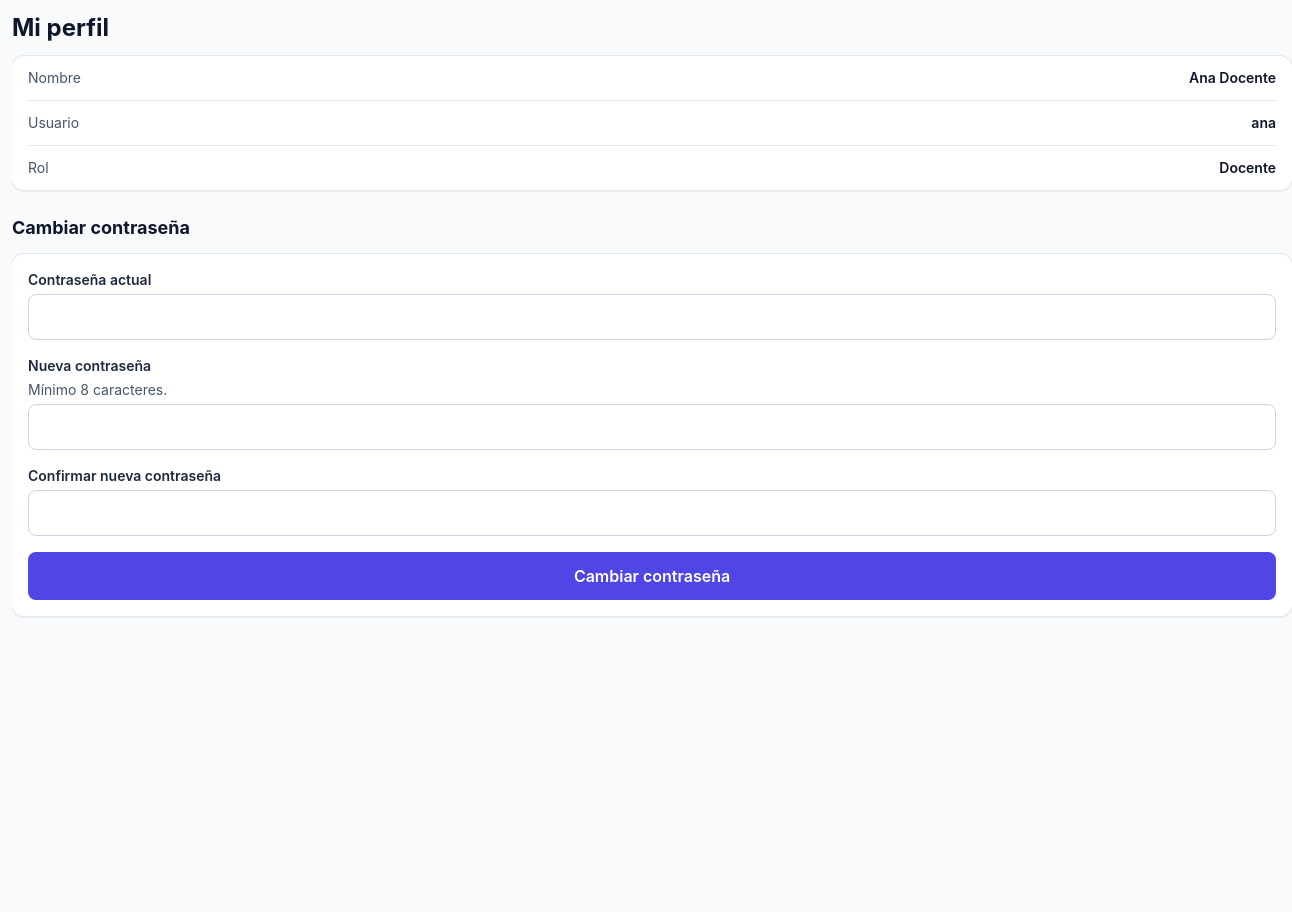
ProfilePage › shows a Spanish message when the current password is wrong
Type "equivocada" into the password field labelled "Contraseña actual" at coordinates (652, 317), box left=28, top=294, right=1276, bottom=340
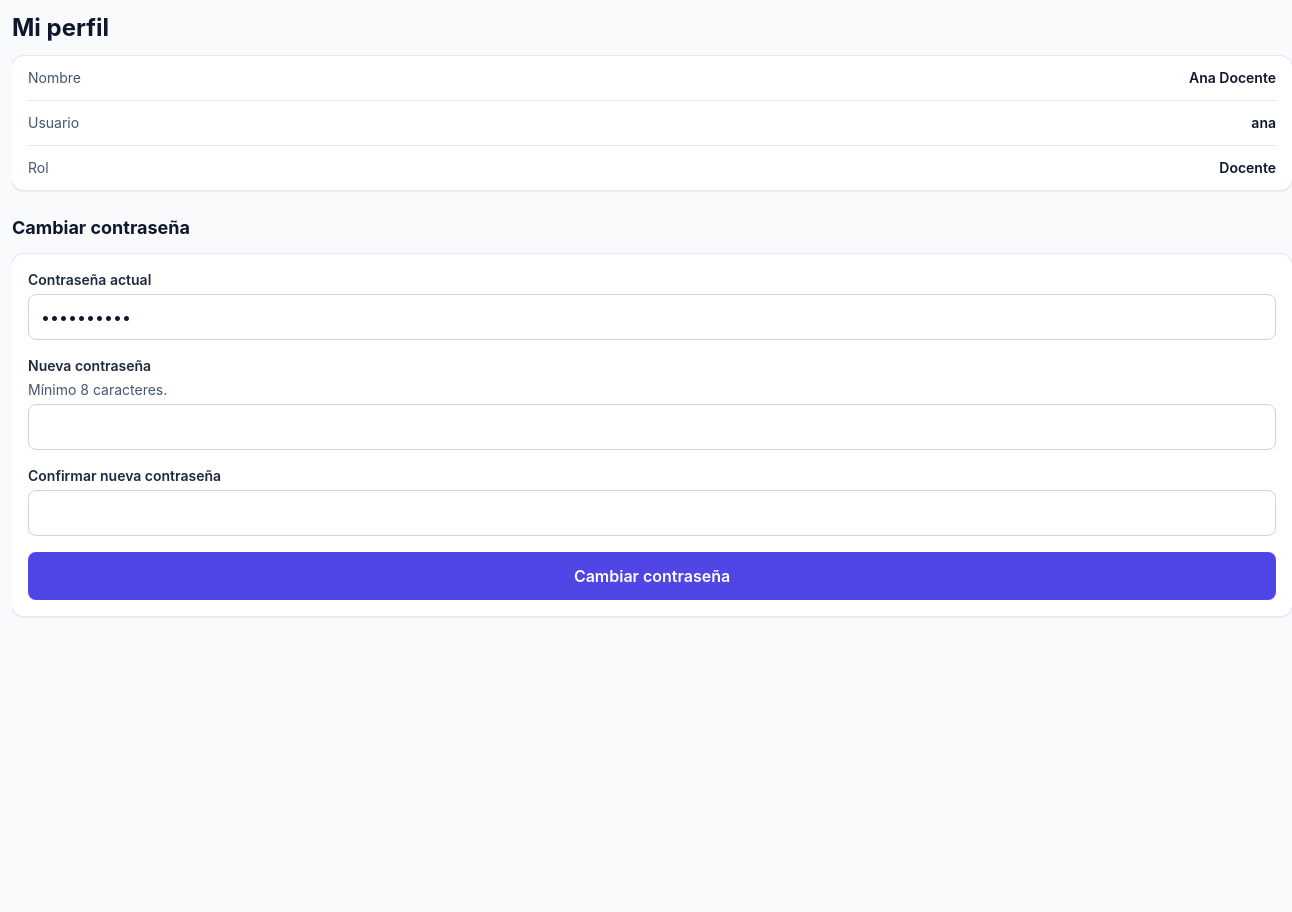
Type "nuevo-secreto" into the password field labelled "Nueva contraseña" at coordinates (652, 427), box left=28, top=404, right=1276, bottom=450
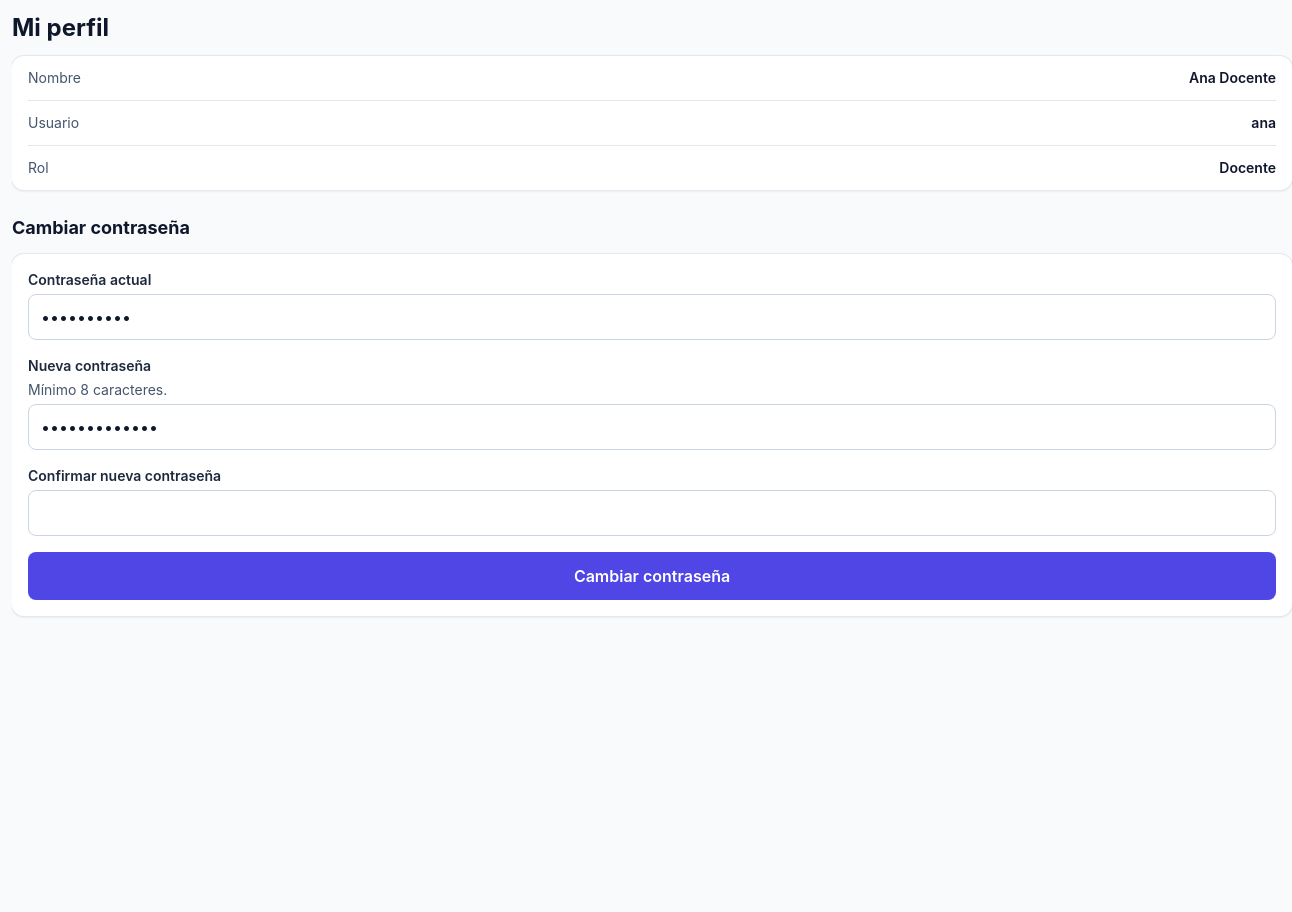
Type "nuevo-secreto" into the password field labelled "Confirmar nueva contraseña" at coordinates (652, 513), box left=28, top=490, right=1276, bottom=536
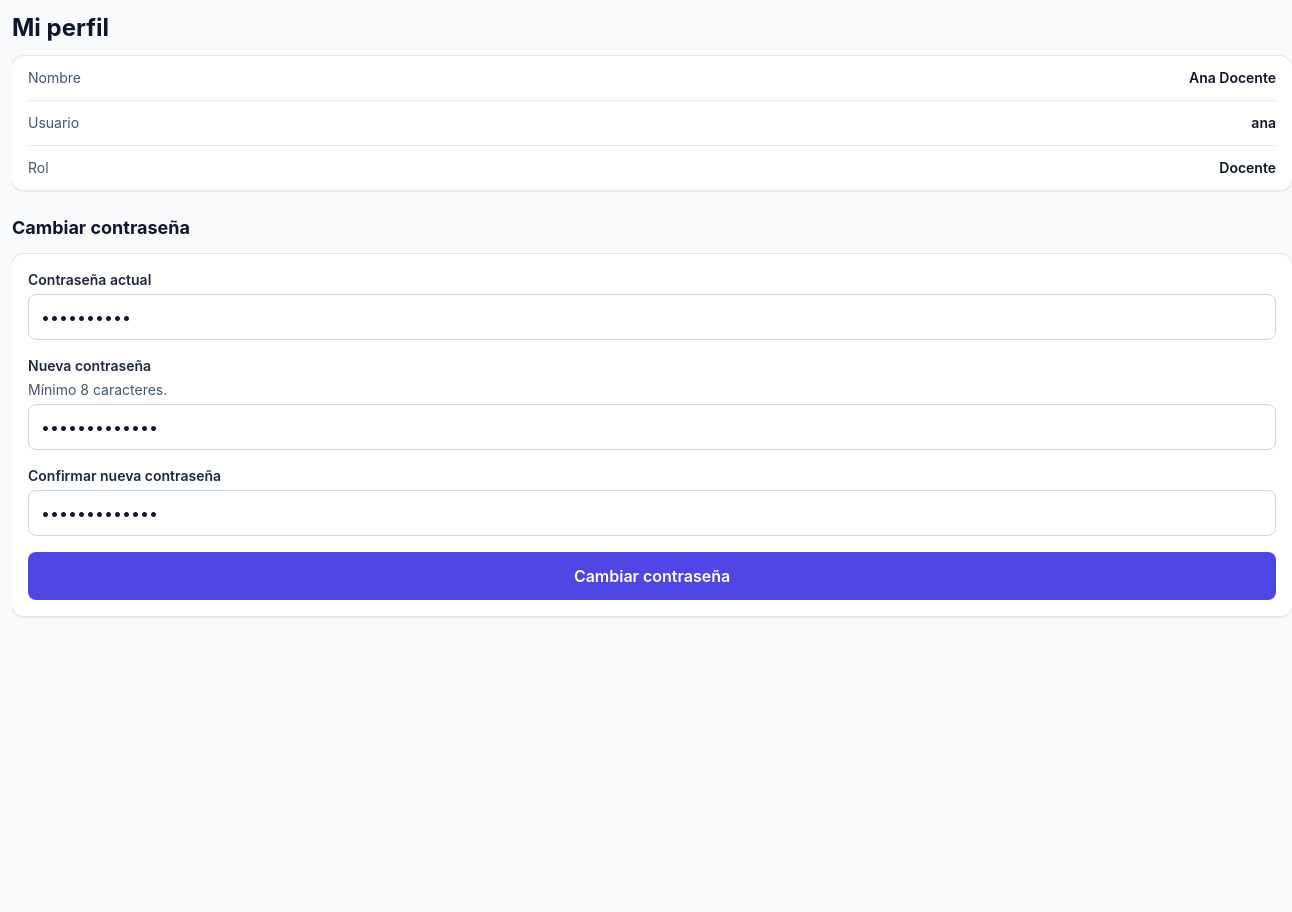
Click the button "Cambiar contraseña" at coordinates (652, 576), box left=28, top=552, right=1276, bottom=600
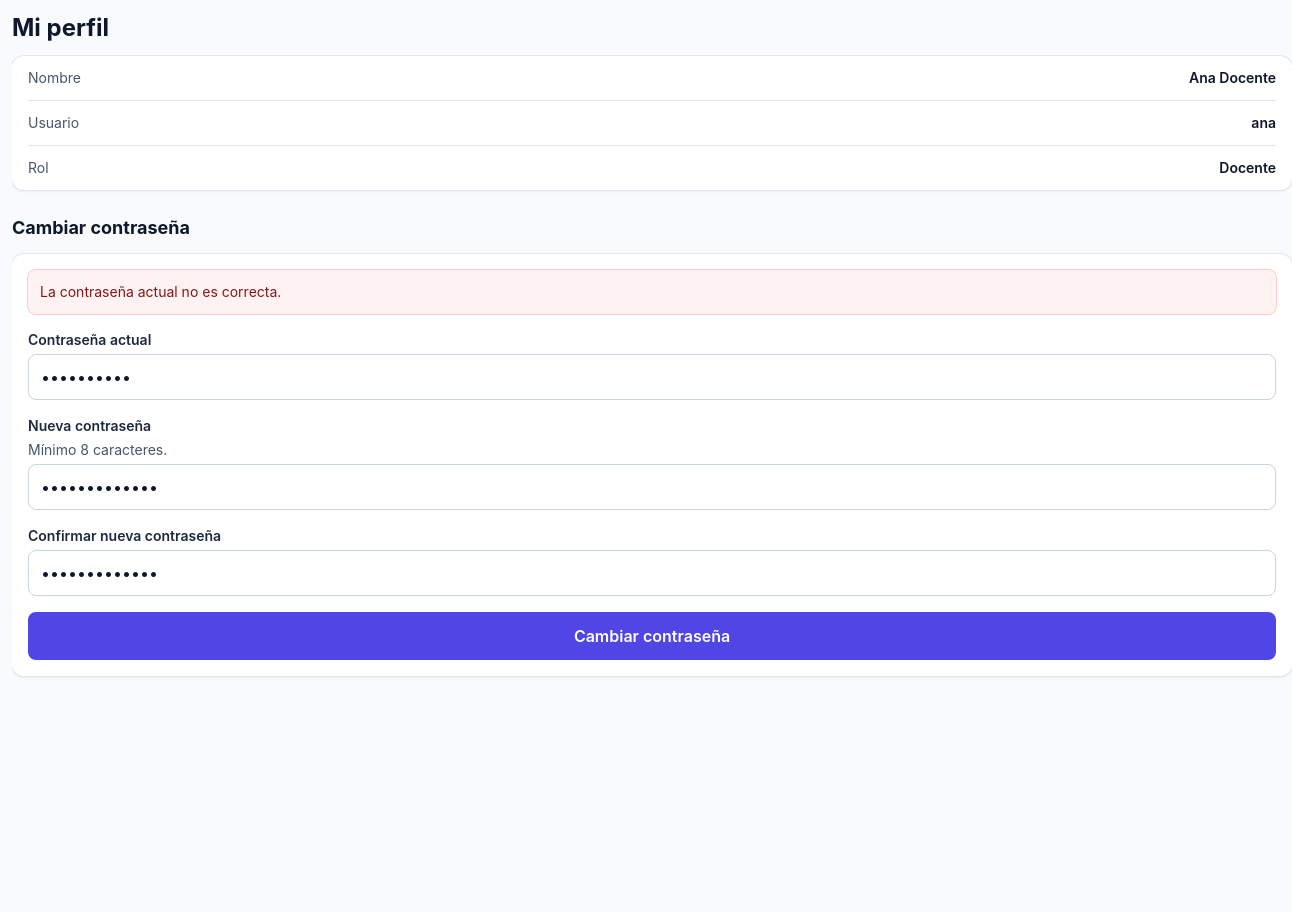
Now the message reads "La contraseña actual no es correcta.", box left=40, top=283, right=281, bottom=300
